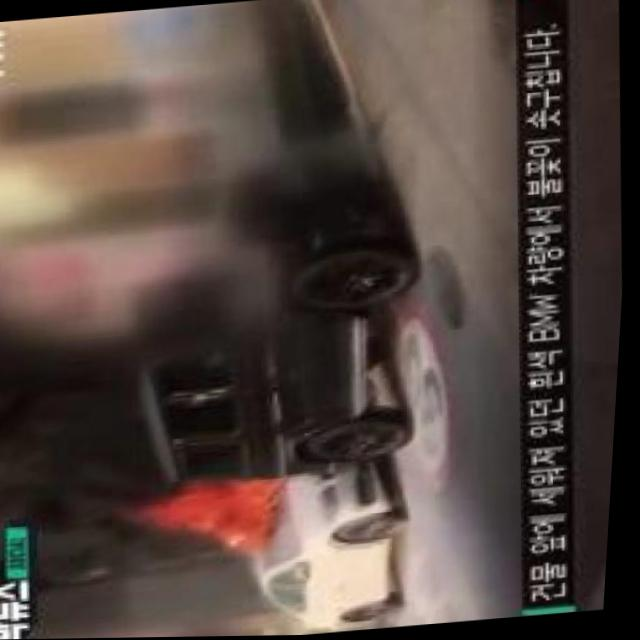Fire: (190, 482, 277, 549)
